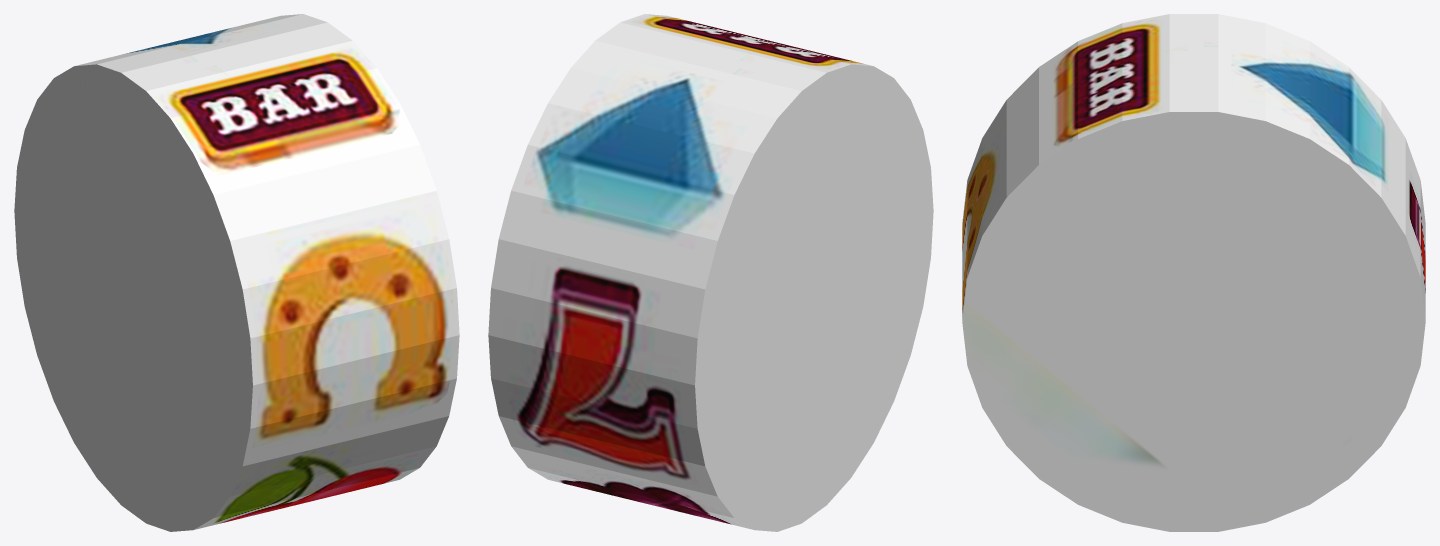
The model's file is roll_01.glb.
3 renders of one model, left to right at view 1: azimuth 30°, elevation 25°; view 2: azimuth 150°, elevation 25°; view 3: azimuth 270°, elevation 25°, orthographic. The views are drawn at different scales.
Parts seen in each view (by area): view 1: clip_1; view 2: clip_1; view 3: clip_1.
Part boxes in pixels (x1,y1,x2,y2): clip_1: (14,14,459,531); clip_1: (488,14,933,531); clip_1: (962,14,1425,531).
Bounding box in the file's own units: 0.25 × 0.5 × 0.5.
1 material, 1 textured.
